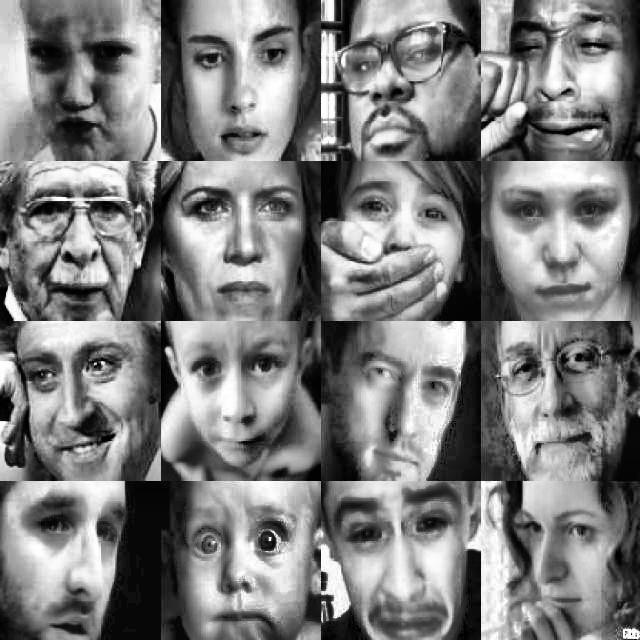angry: (159, 172, 301, 312), (504, 481, 618, 640), (28, 22, 152, 156), (343, 21, 463, 153)
fear: (168, 492, 306, 640), (170, 336, 302, 467), (342, 182, 459, 316)
happy: (330, 329, 461, 477), (15, 328, 144, 477), (499, 338, 616, 478)
neutral: (14, 172, 136, 306)
sad: (336, 486, 478, 640), (166, 21, 310, 157), (496, 15, 633, 153), (496, 172, 632, 303), (15, 497, 138, 640)
